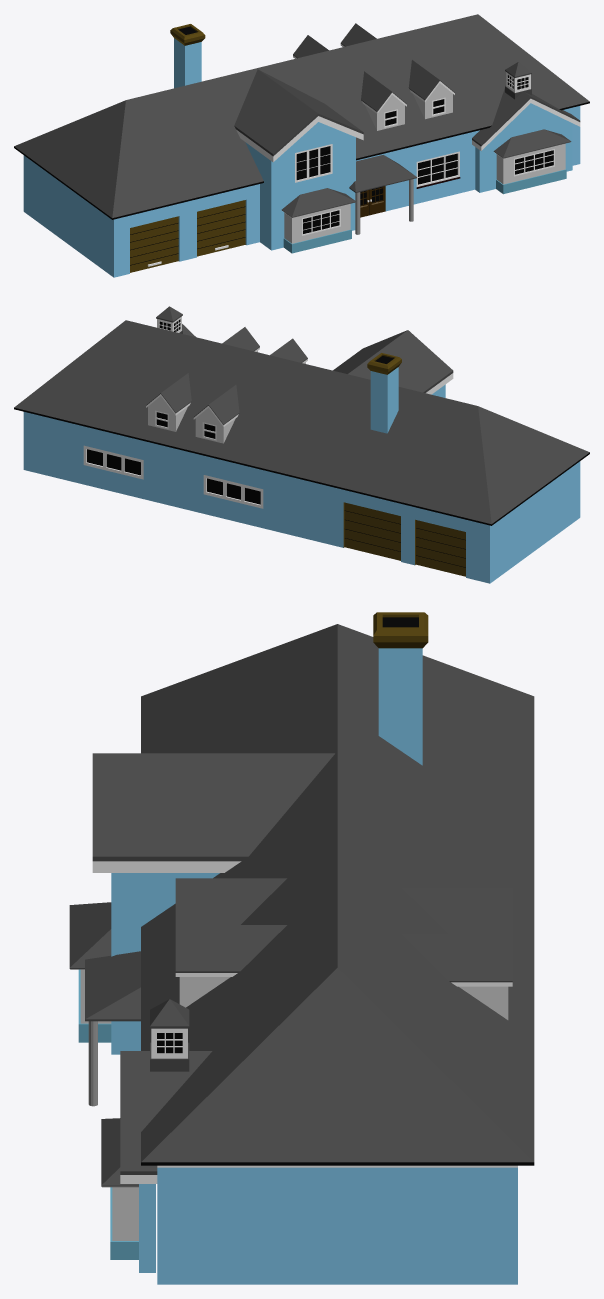
Rendered from House-15.fbx.
3 renders of one model, top to bottom at view 1: azimuth 30°, elevation 25°; view 2: azimuth 150°, elevation 25°; view 3: azimuth 270°, elevation 25°, orthographic. The views are drawn at different scales.
Visible parts, largest first — view 1: House; view 2: House; view 3: House.
Part boxes in pixels (x1=…): House: x1=14, y1=14, x2=589, y2=277; House: x1=14, y1=306, x2=589, y2=583; House: x1=69, y1=612, x2=534, y2=1284.
Size of what is drawn, in the model's own units: 27.31 by 9.29 by 11.5.
